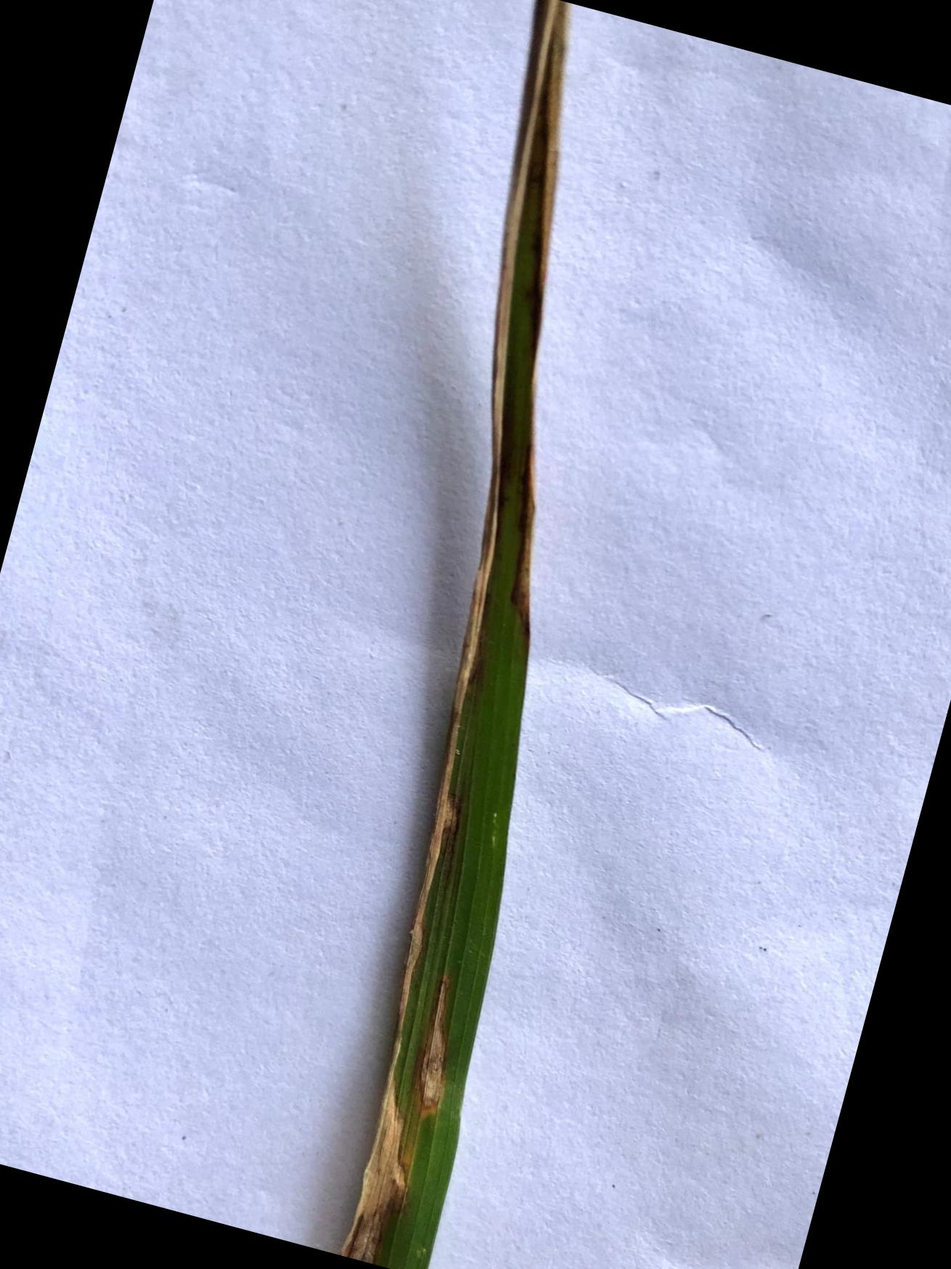Leaf Blight: (340, 0, 570, 1263), (419, 974, 450, 1119)
